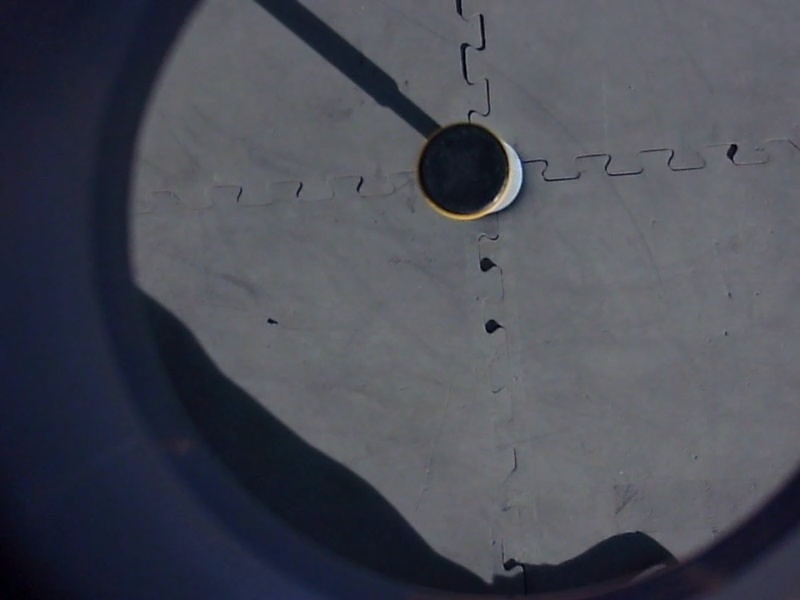tip: (409, 115, 516, 223)
